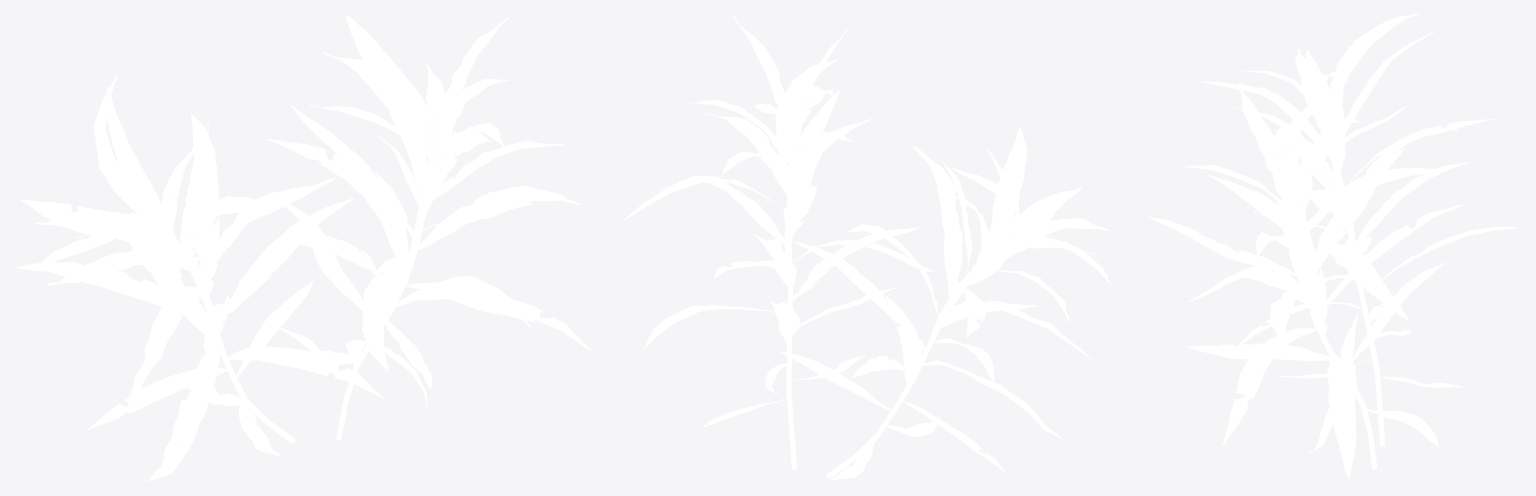
The picture shows the model from 3 angles, left to right: view 1: azimuth 30°, elevation 25°; view 2: azimuth 150°, elevation 25°; view 3: azimuth 270°, elevation 25°; orthographic projection. The views are drawn at different scales.
Visible parts, largest first — view 1: SM_GF_Red_Bush_01_C_LOD0; view 2: SM_GF_Red_Bush_01_C_LOD0; view 3: SM_GF_Red_Bush_01_C_LOD0.
Part boxes in pixels (x1=…): SM_GF_Red_Bush_01_C_LOD0: x1=16, y1=14, x2=590, y2=480; SM_GF_Red_Bush_01_C_LOD0: x1=622, y1=15, x2=1114, y2=481; SM_GF_Red_Bush_01_C_LOD0: x1=1148, y1=14, x2=1518, y2=479.
Bounding box in the file's own units: 0.5042 × 0.393 × 0.3357.
1 material, 1 textured.
